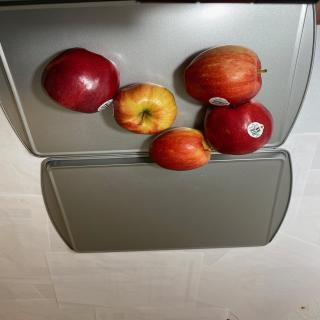Apple: (41, 47, 120, 114), (184, 45, 267, 107), (204, 99, 274, 155), (112, 82, 178, 135), (148, 127, 212, 171)
